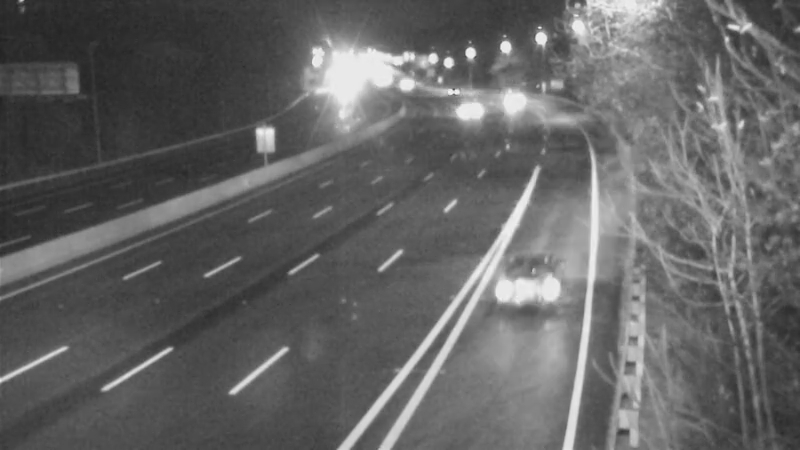vehicle: (499, 252, 579, 332), (424, 68, 474, 118), (481, 72, 531, 122), (443, 83, 493, 133)
